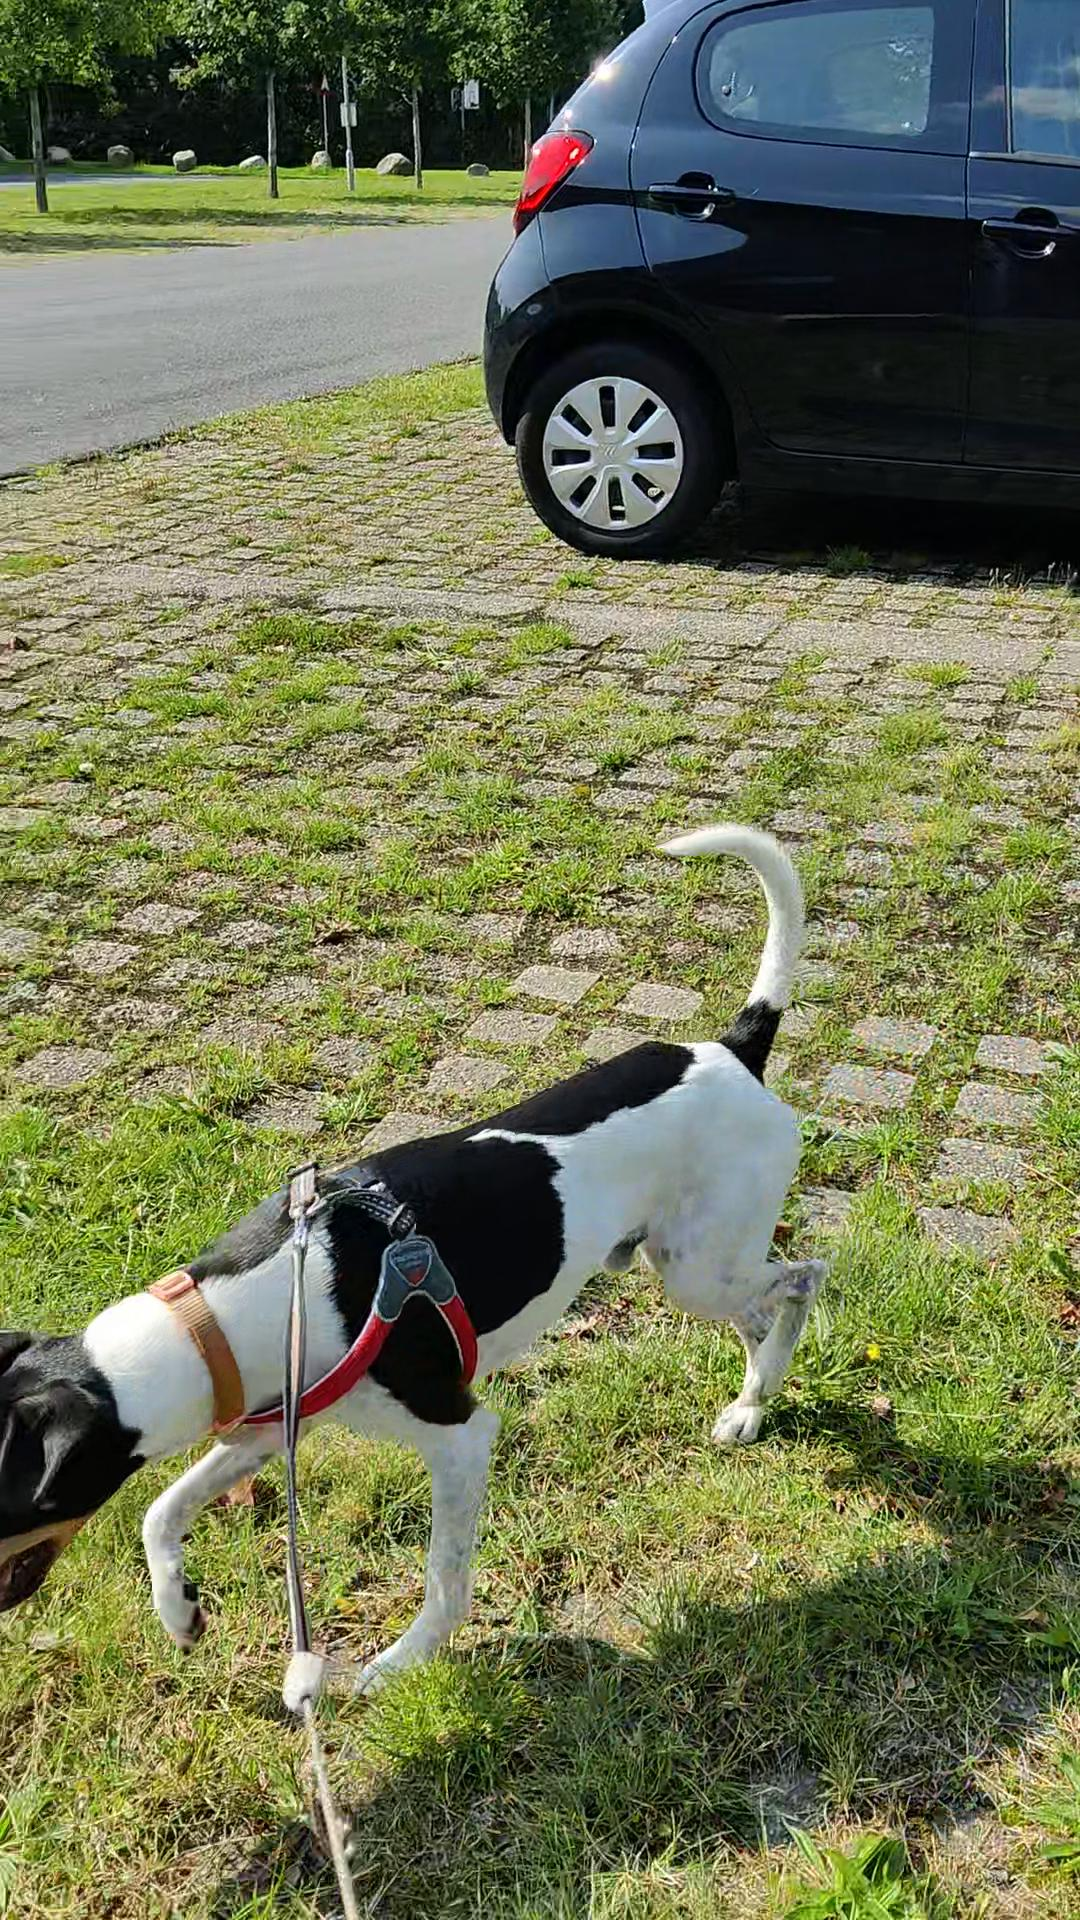Dog: (0, 819, 832, 1714)
